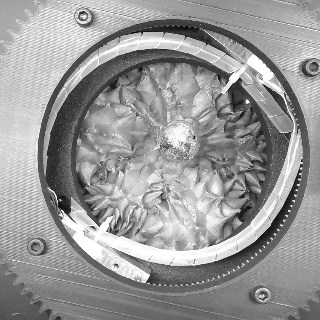base: (158, 117, 199, 170)
end: (158, 122, 197, 162)
